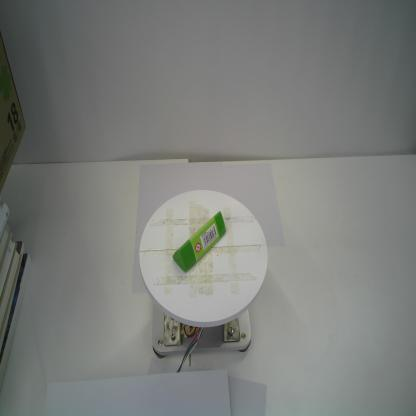Stationery: (172, 210, 226, 272)
